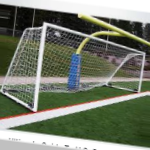goals: (1, 23, 145, 113)
